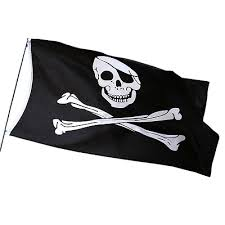Jolly Roger Flag: (7, 38, 218, 182)
